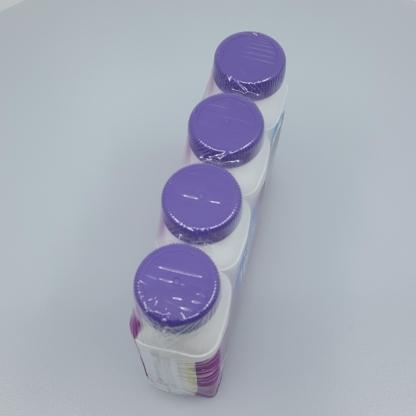-------------400ML: (129, 31, 288, 397)
